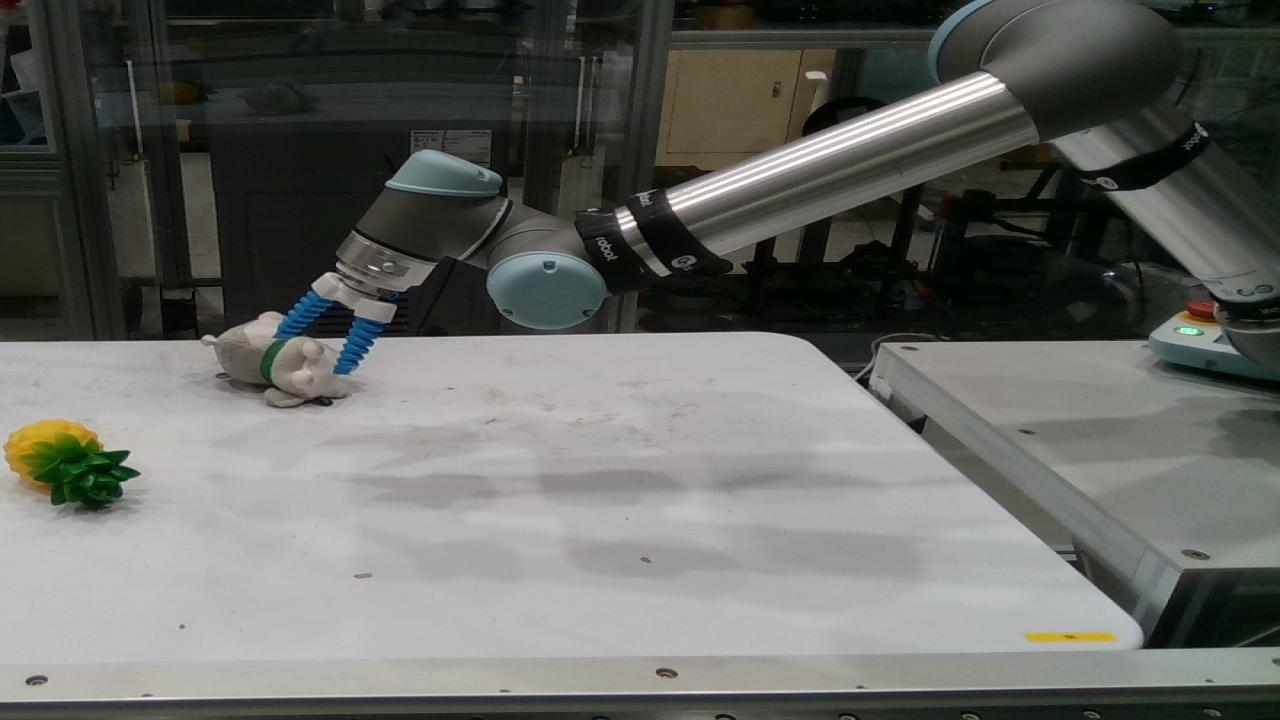UR5: (309, 0, 1268, 363)
gripper_left: (276, 292, 335, 340)
gripper_right: (338, 318, 380, 372)
target: (211, 312, 348, 406), (6, 420, 136, 507)
